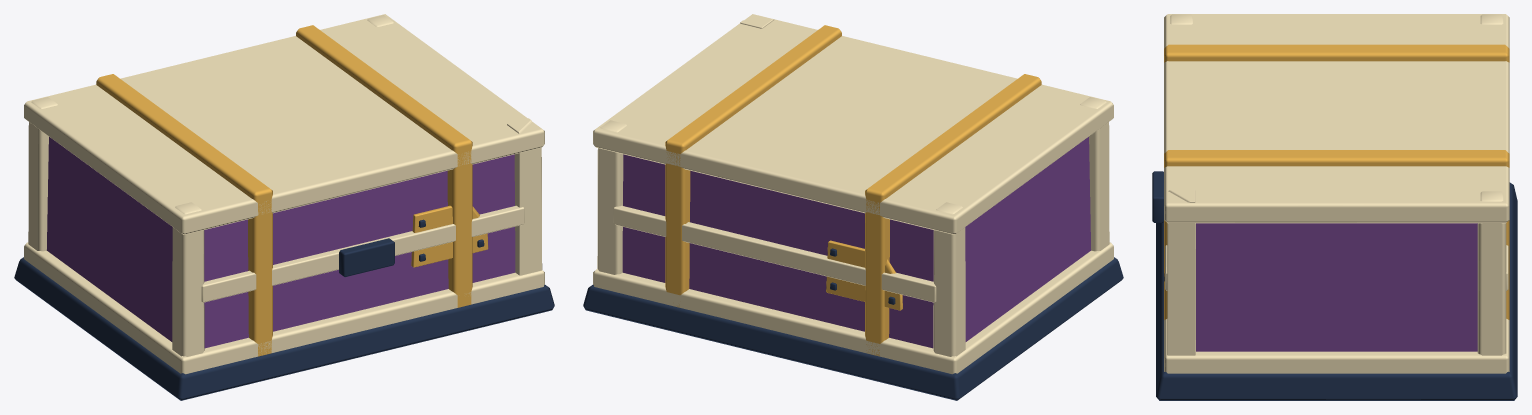
File: crates_purple.glb
3 renders of one model, left to right at view 1: azimuth 30°, elevation 25°; view 2: azimuth 150°, elevation 25°; view 3: azimuth 270°, elevation 25°, orthographic. The views are drawn at different scales.
Visible parts, largest first — view 1: crates_purple; view 2: crates_purple; view 3: crates_purple.
Boxes of the visible parts, <box> form: crates_purple: <box>14,14,554,400</box>; crates_purple: <box>583,14,1123,400</box>; crates_purple: <box>1152,14,1517,400</box>.
Bounding box in the file's own units: 2.91 × 1.38 × 2.26.
